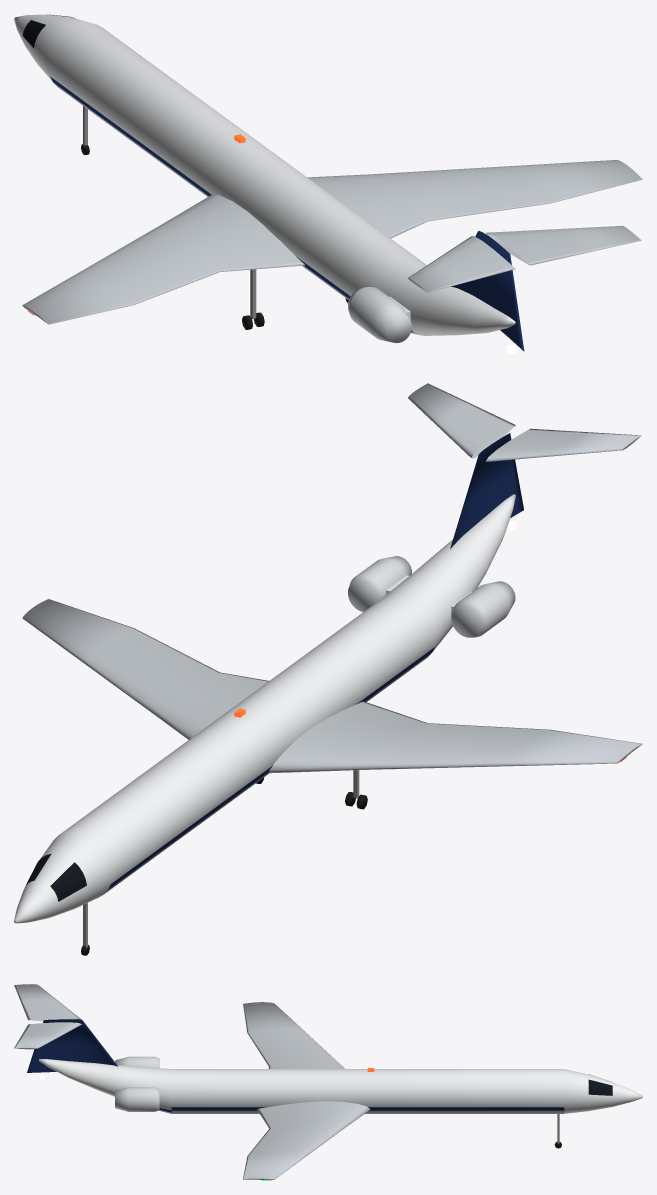
Rendered from fleet_rearjet_lod0.glb.
3 renders of one model, top to bottom at view 1: azimuth 30°, elevation 25°; view 2: azimuth 150°, elevation 25°; view 3: azimuth 270°, elevation 25°, orthographic. The views are drawn at different scales.
Visible parts, largest first — view 1: fleet_rearjet_lod0_wing, fleet_rearjet_lod0_white, fleet_rearjet_lod0_blue, fleet_rearjet_lod0_nacelle, fleet_rearjet_lod0_metal; view 2: fleet_rearjet_lod0_white, fleet_rearjet_lod0_wing, fleet_rearjet_lod0_nacelle, fleet_rearjet_lod0_blue, fleet_rearjet_lod0_glass; view 3: fleet_rearjet_lod0_white, fleet_rearjet_lod0_wing, fleet_rearjet_lod0_blue, fleet_rearjet_lod0_nacelle, fleet_rearjet_lod0_belly, fleet_rearjet_lod0_glass.
Part boxes in pixels (x1,y1,x2,y2): fleet_rearjet_lod0_wing: (22, 160, 642, 324); fleet_rearjet_lod0_white: (14, 14, 515, 335); fleet_rearjet_lod0_blue: (50, 76, 524, 351); fleet_rearjet_lod0_nacelle: (348, 286, 411, 342); fleet_rearjet_lod0_metal: (83, 106, 256, 318); fleet_rearjet_lod0_white: (14, 494, 515, 923); fleet_rearjet_lod0_wing: (22, 383, 642, 773); fleet_rearjet_lod0_nacelle: (348, 556, 515, 637); fleet_rearjet_lod0_blue: (108, 433, 523, 889); fleet_rearjet_lod0_glass: (26, 853, 86, 901); fleet_rearjet_lod0_white: (39, 1059, 642, 1113); fleet_rearjet_lod0_wing: (14, 984, 370, 1180); fleet_rearjet_lod0_blue: (27, 1019, 564, 1112); fleet_rearjet_lod0_nacelle: (115, 1056, 159, 1111); fleet_rearjet_lod0_belly: (159, 1110, 564, 1113); fleet_rearjet_lod0_glass: (588, 1074, 612, 1095).
Size of the model in its own units: 24.9 by 8.76 by 37.69.
